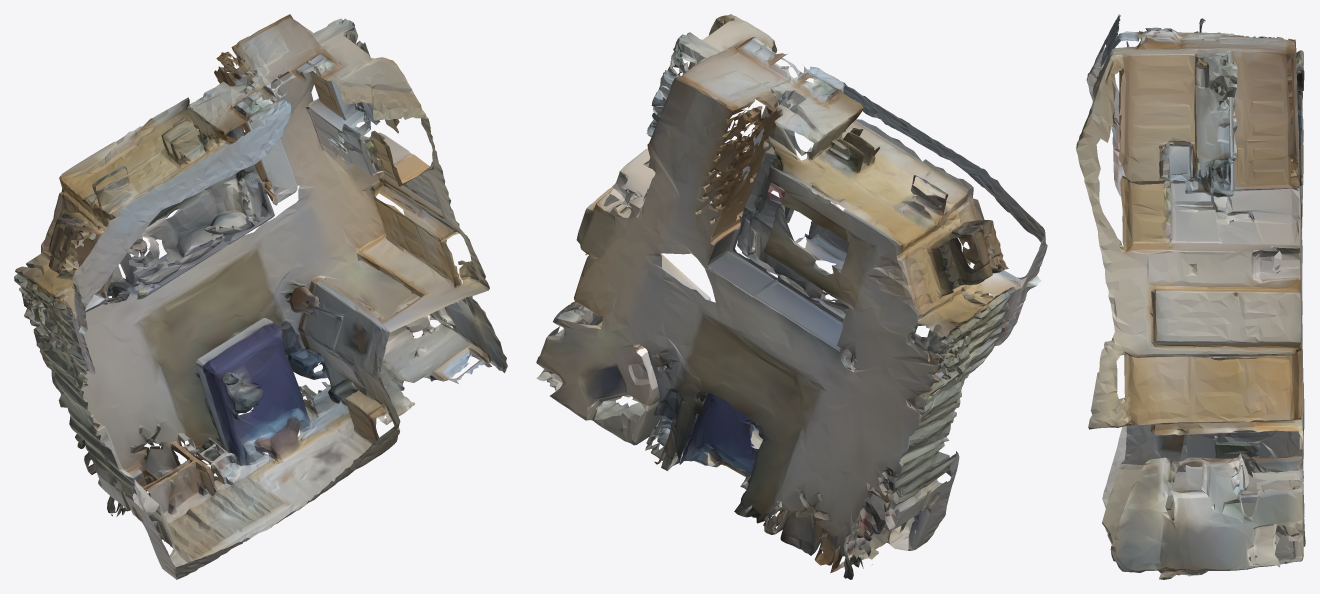
Rendered from reference_scene0000.glb.
The picture shows the model from 3 angles, left to right: view 1: azimuth 30°, elevation 25°; view 2: azimuth 150°, elevation 25°; view 3: azimuth 270°, elevation 25°; orthographic projection. The views are drawn at different scales.
Bounding box in the file's own units: 8.42 × 8.74 × 3.02.
